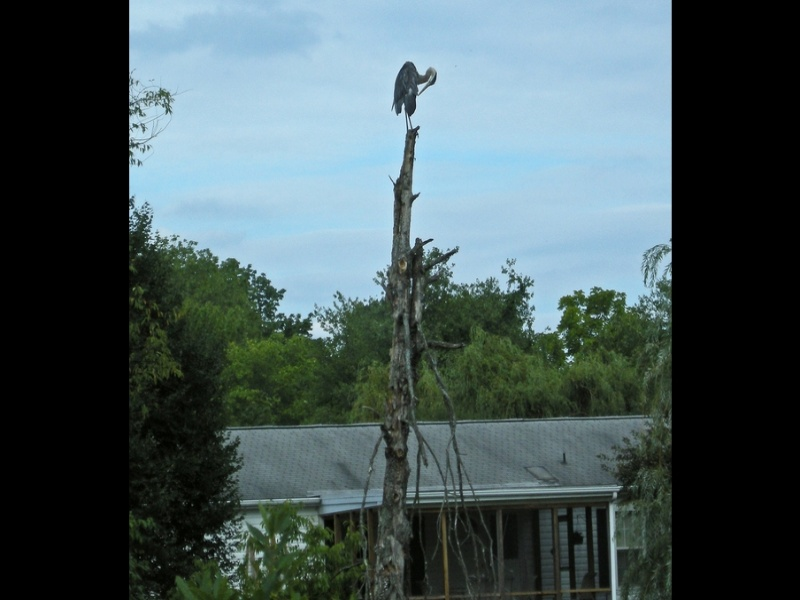heron: (390, 60, 437, 134)
